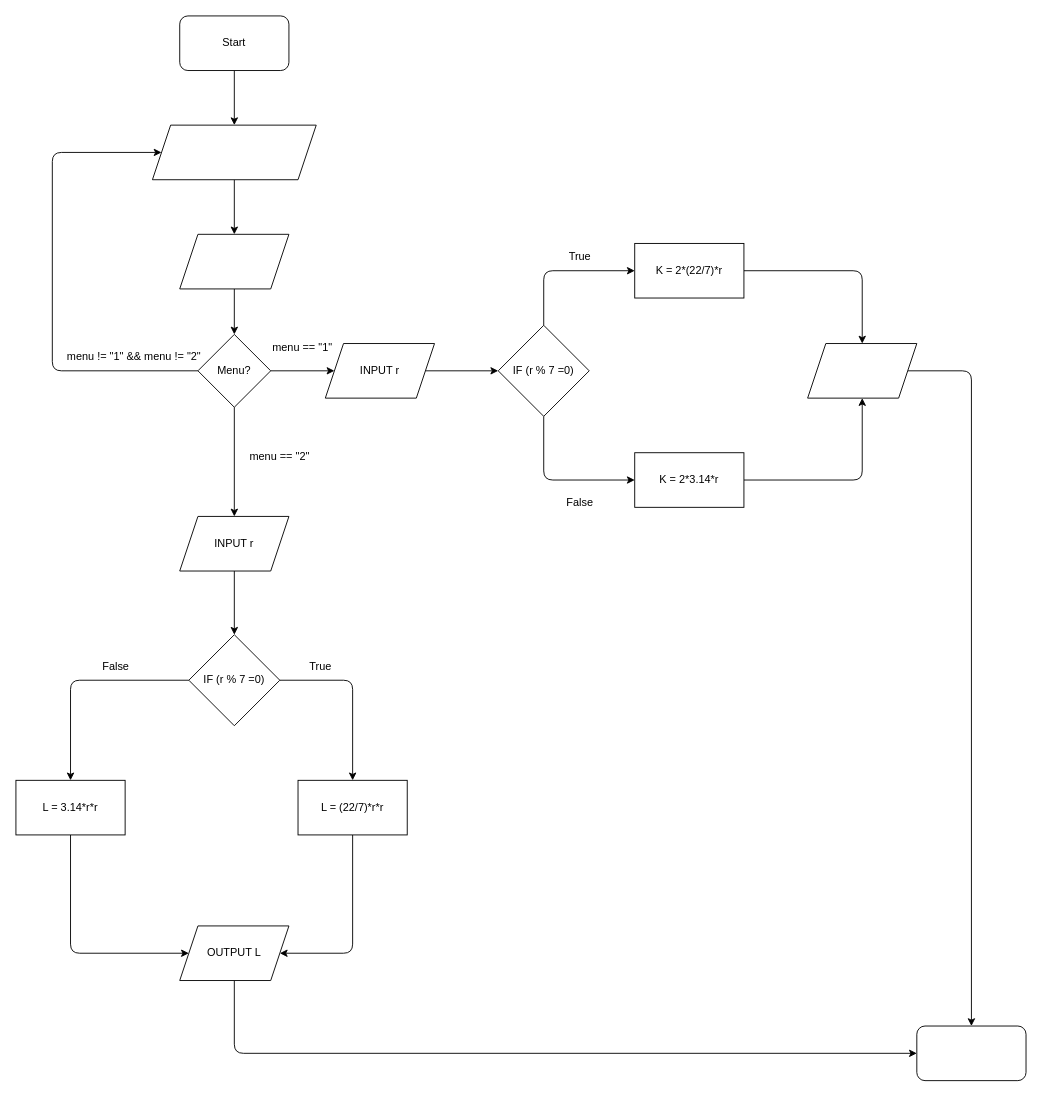
The diagram is 1042 pixels wide and 1097 high, and some of its shapes have lost their labels. Each missing label, with the centre of its shape:
DISPLAY daftarMenu: point 234,152
END: point 971,1053
INPUT menu: point 234,261
OUTPUT K: point 862,370
